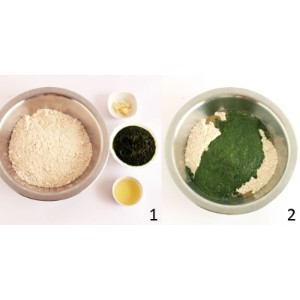spinach_brain food: (189, 109, 267, 199), (110, 123, 157, 169)
